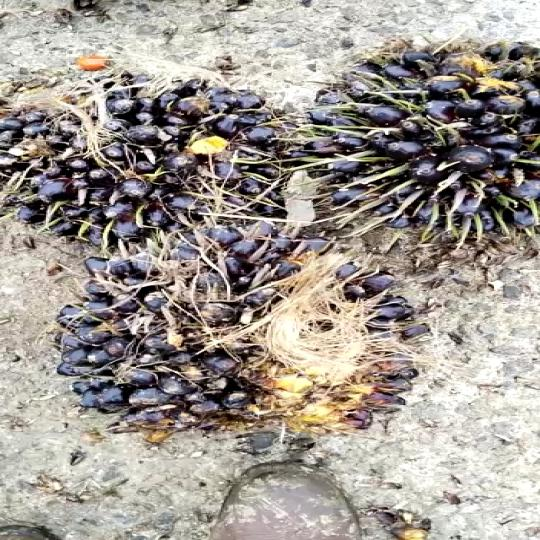mentah: (66, 244, 435, 469), (0, 62, 324, 264), (311, 40, 540, 272)
